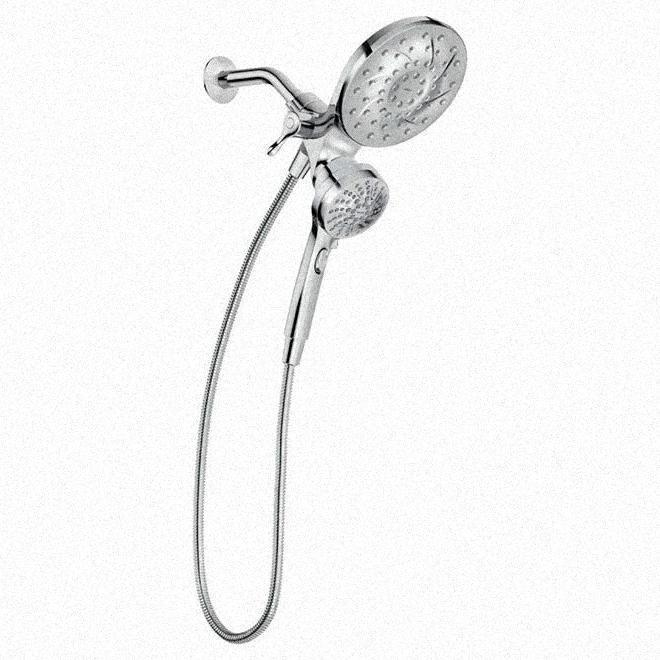Ducha: (131, 0, 481, 659)
